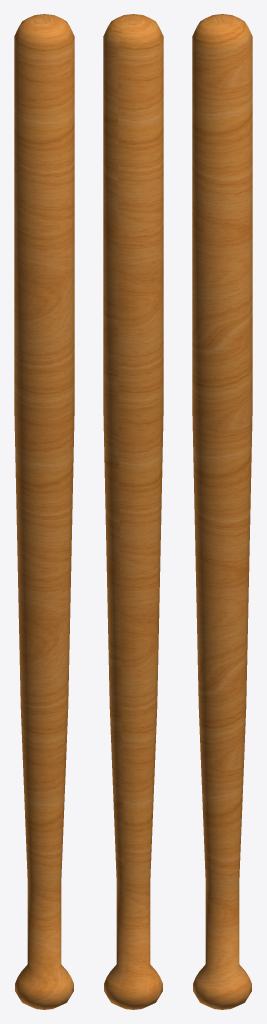
The model's file is Bate.obj.
3 renders of one model, left to right at view 1: azimuth 90°, elevation 25°; view 2: azimuth 150°, elevation 25°; view 3: azimuth 270°, elevation 25°, orthographic.
Visible parts, largest first — view 1: Bate; view 2: Bate; view 3: Bate.
Part boxes in pixels (x1,y1,x2,y2): Bate: (14, 14, 74, 1009); Bate: (103, 14, 163, 1009); Bate: (192, 14, 252, 1009).
Bounding box in the file's own units: 0.05 × 0.897 × 0.05.
Materials: 1 (1 with a texture image).
